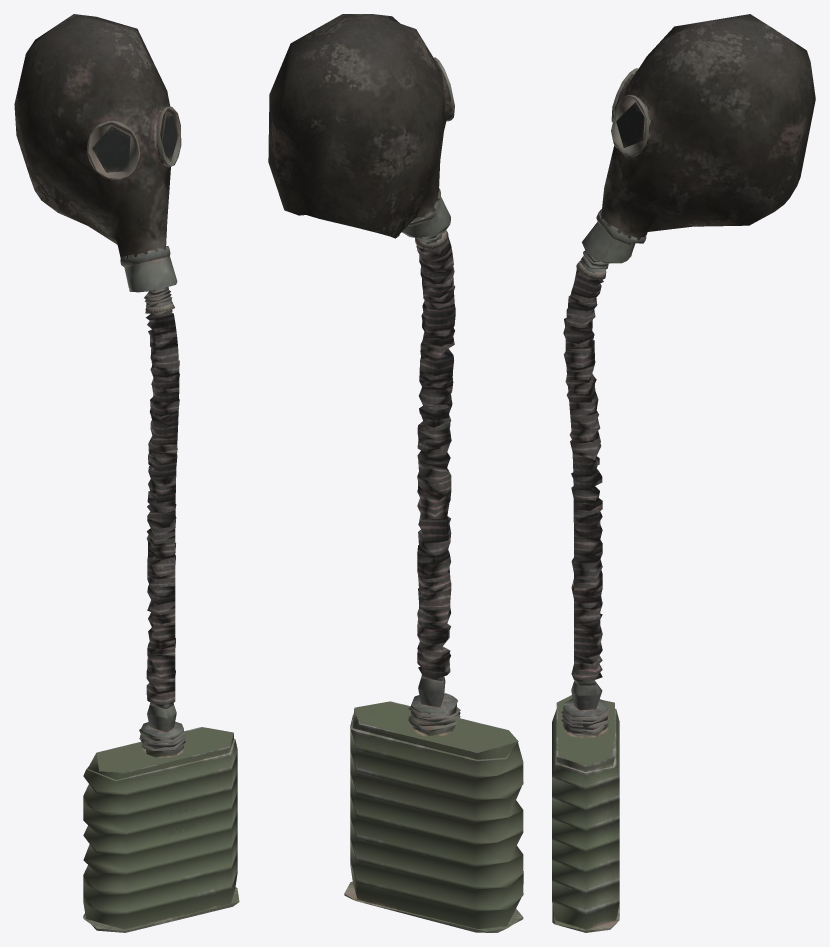
File: goggles.glb
3 views of the same model, side by side, from view 1: azimuth 30°, elevation 25°; view 2: azimuth 150°, elevation 25°; view 3: azimuth 270°, elevation 25° (orthographic). The views are drawn at different scales.
Size of the model in its own units: 0.2081 by 1.13 by 0.3074.
Materials: 1 (1 with a texture image).
